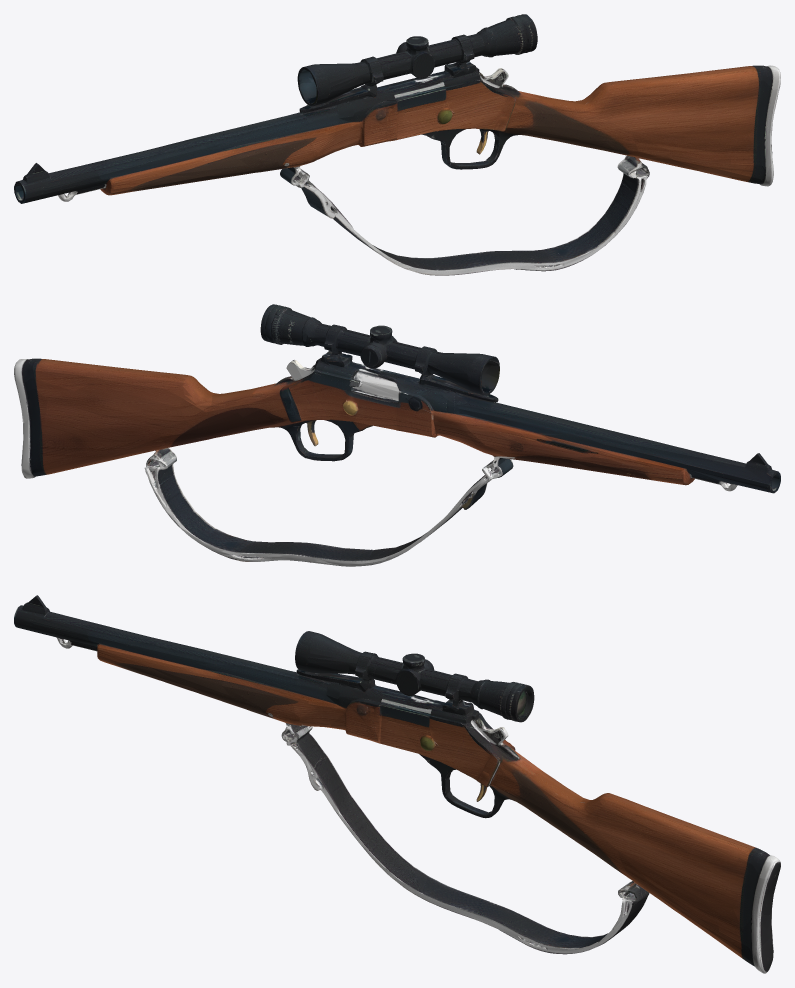
3 renders of one model, top to bottom at view 1: azimuth 30°, elevation 25°; view 2: azimuth 150°, elevation 25°; view 3: azimuth 330°, elevation 25°, orthographic.
Bounding box in the file's own units: 1.9 × 0.6159 × 0.0947.
Materials: 1 (1 with a texture image).
